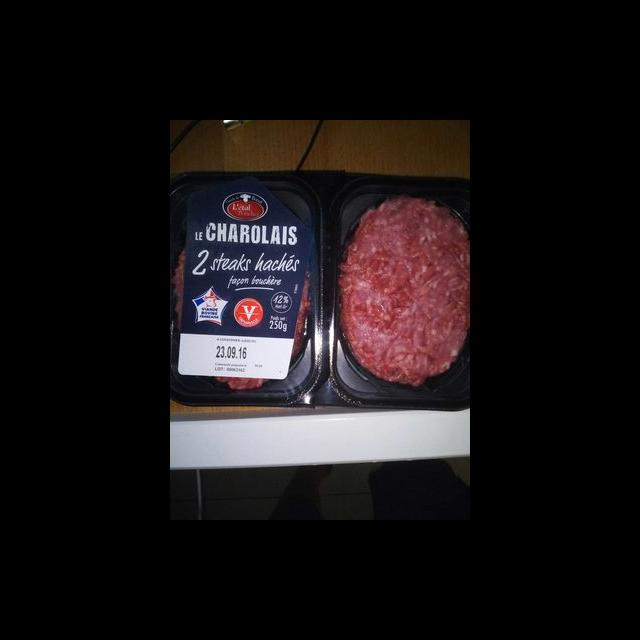beef: (340, 198, 470, 385)
